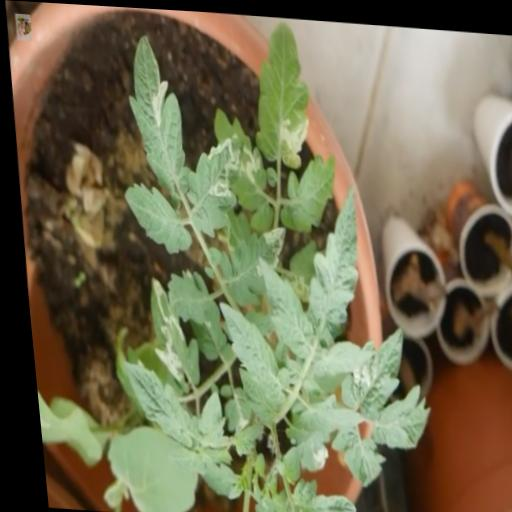Leaf_Miner: (242, 15, 313, 167), (119, 31, 185, 190), (327, 316, 405, 418), (176, 129, 246, 237), (210, 220, 287, 306), (208, 102, 264, 210), (140, 277, 195, 386), (282, 265, 314, 300)
